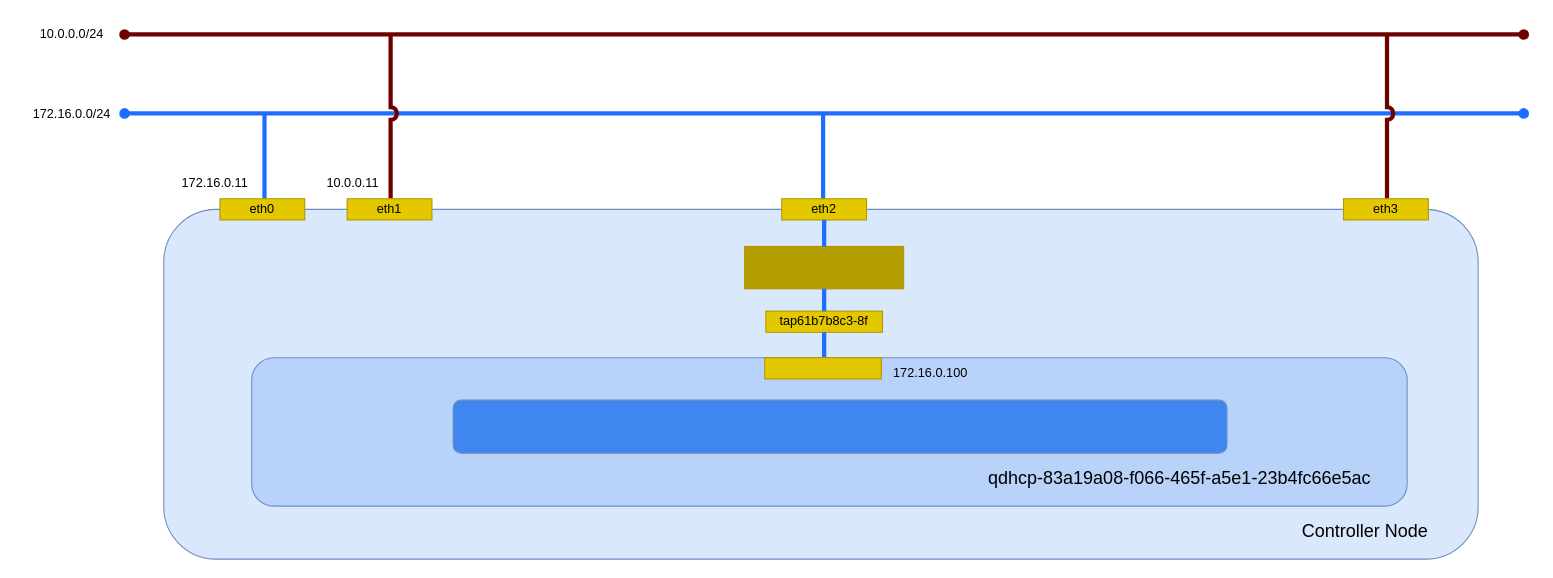
Image size: 1553x578. Some labels were removed from this diagram. Each missing label, with the centre of its shape:
"brq83a19a08-f0" belongs at (824,267).
"DHCP agent" belongs at (839,426).
"ns-61b7b8c3-8" belongs at (822,368).
